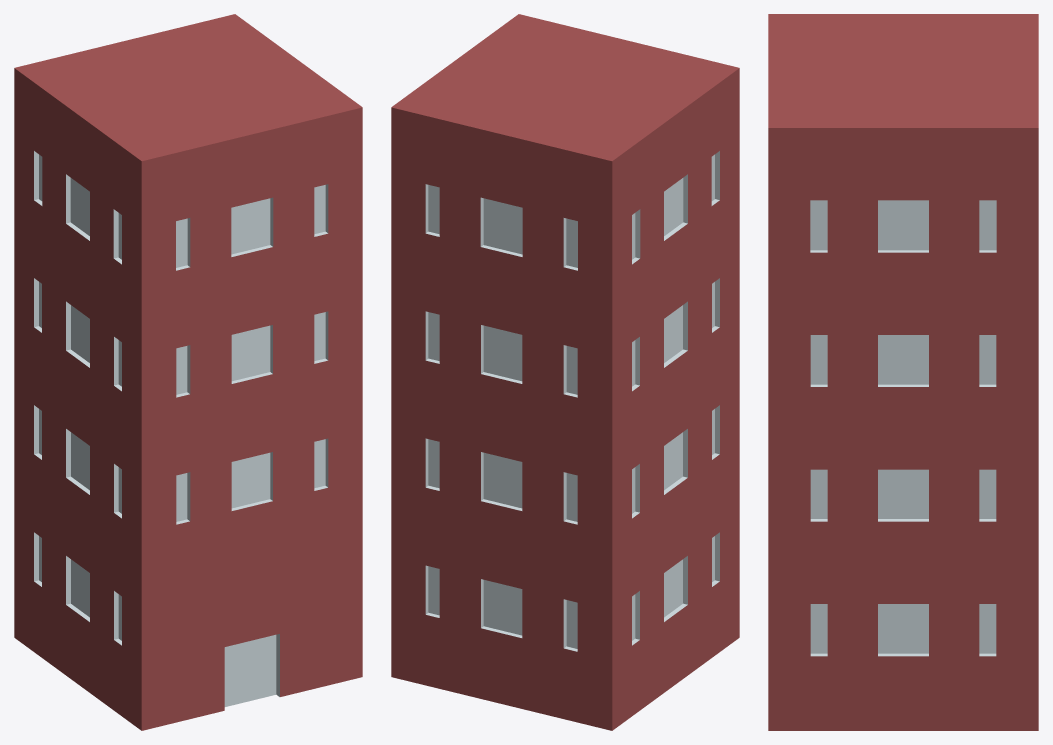
The model's file is BrickBuilding.fbx.
The picture shows the model from 3 angles, left to right: view 1: azimuth 30°, elevation 25°; view 2: azimuth 150°, elevation 25°; view 3: azimuth 270°, elevation 25°; orthographic projection. The views are drawn at different scales.
Visible parts, largest first — view 1: BrickBuilding; view 2: BrickBuilding; view 3: BrickBuilding.
Boxes of the visible parts, left/top/right/bottom form: BrickBuilding: left=14, top=14, right=362, bottom=730; BrickBuilding: left=391, top=14, right=739, bottom=730; BrickBuilding: left=768, top=14, right=1038, bottom=730.
Size of the model in its own units: 1277 by 3145 by 1277.
